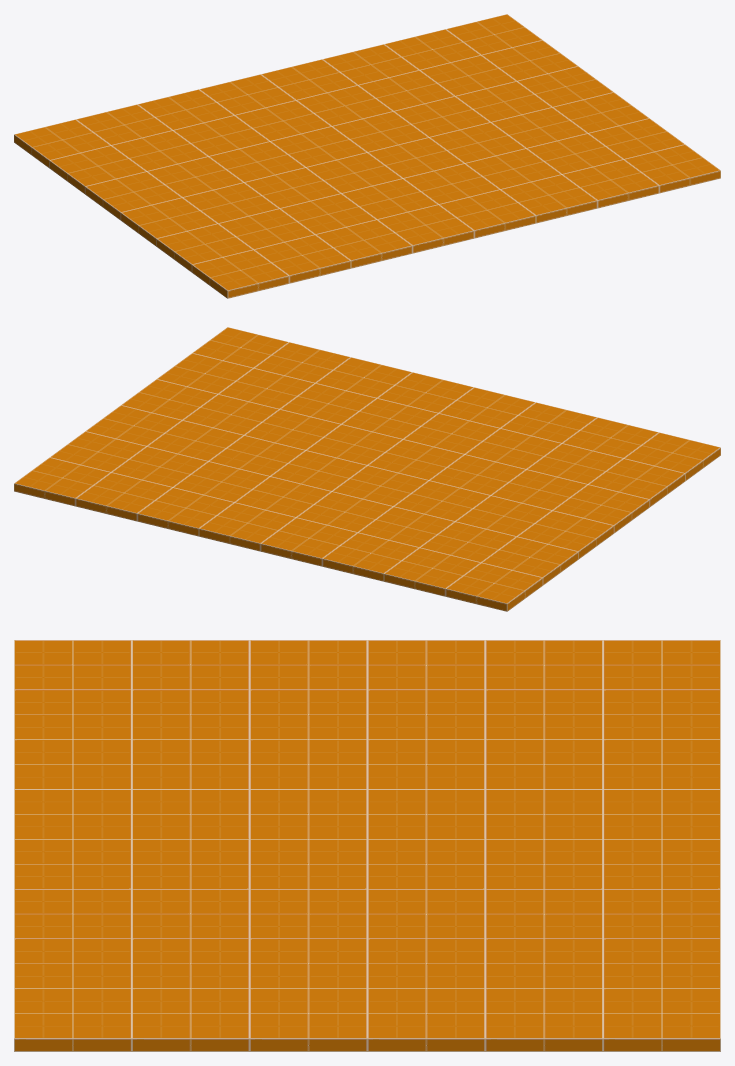
File: Plate8_8x6.obj
The picture shows the model from 3 angles, top to bottom: view 1: azimuth 30°, elevation 25°; view 2: azimuth 150°, elevation 25°; view 3: azimuth 270°, elevation 25°; orthographic projection. The views are drawn at different scales.
Parts seen in each view (by area): view 1: Plate8_8x6_Cube.402; view 2: Plate8_8x6_Cube.402; view 3: Plate8_8x6_Cube.402.
Part boxes in pixels (bbox=[...]): Plate8_8x6_Cube.402: bbox=[14, 14, 720, 298]; Plate8_8x6_Cube.402: bbox=[14, 327, 720, 611]; Plate8_8x6_Cube.402: bbox=[14, 640, 720, 1051].
Size of the model in its own units: 8 by 0.125 by 6.
Materials: 1 (1 with a texture image).
